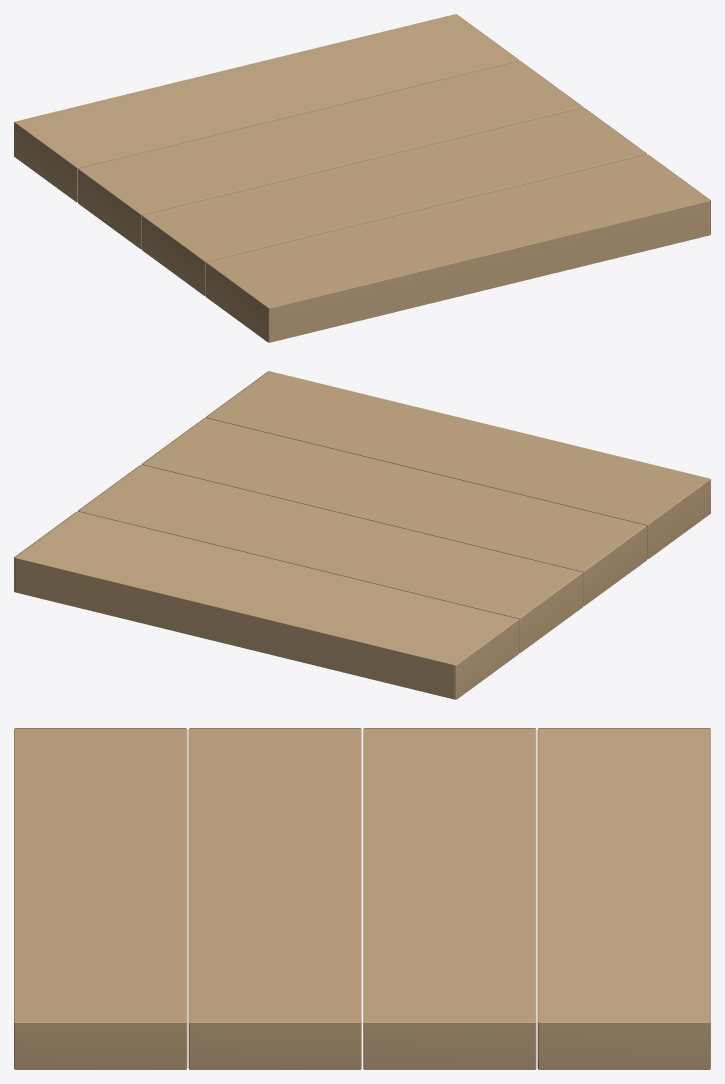
File: floor_maple_2m.glb
3 renders of one model, top to bottom at view 1: azimuth 30°, elevation 25°; view 2: azimuth 150°, elevation 25°; view 3: azimuth 270°, elevation 25°, orthographic. The views are drawn at different scales.
Parts seen in each view (by area): view 1: Maple plank, Maple plank.001, Maple plank.003, Maple plank.002; view 2: Maple plank.003, Maple plank.002, Maple plank, Maple plank.001; view 3: Maple plank.001, Maple plank.002, Maple plank, Maple plank.003.
Part boxes in pixels (left/top/right/bottom): Maple plank: left=205, top=154, right=710, bottom=342; Maple plank.001: left=141, top=108, right=646, bottom=295; Maple plank.003: left=14, top=14, right=519, bottom=202; Maple plank.002: left=78, top=61, right=583, bottom=248; Maple plank.003: left=14, top=511, right=519, bottom=699; Maple plank.002: left=78, top=465, right=583, bottom=652; Maple plank: left=205, top=371, right=710, bottom=559; Maple plank.001: left=141, top=418, right=646, bottom=605; Maple plank.001: left=188, top=728, right=361, bottom=1069; Maple plank.002: left=363, top=728, right=536, bottom=1069; Maple plank: left=14, top=728, right=187, bottom=1069; Maple plank.003: left=537, top=728, right=710, bottom=1069.
Size of the model in its own units: 2 by 0.15 by 2.
